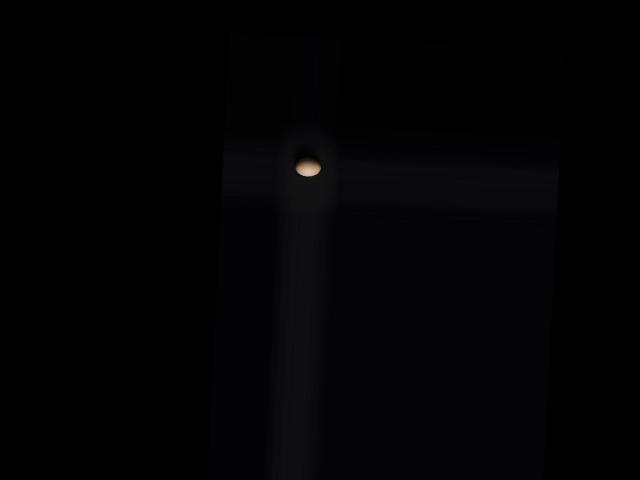egg: (294, 157, 321, 177)
